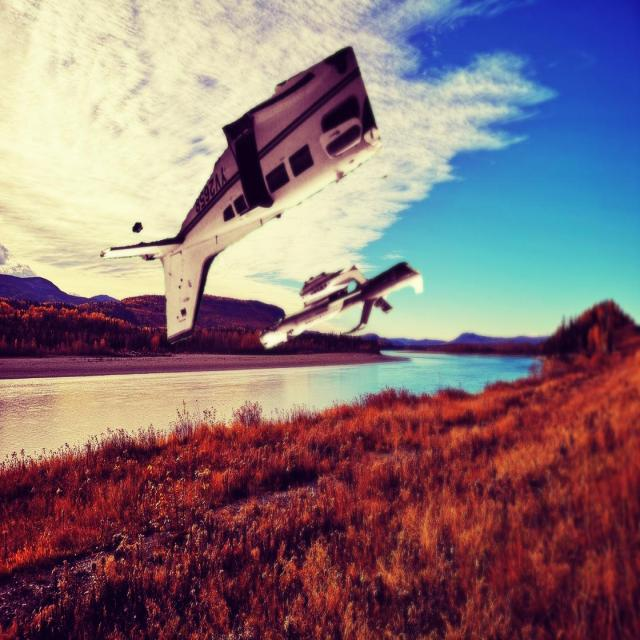airplane: (99, 44, 383, 345), (258, 260, 422, 350)
